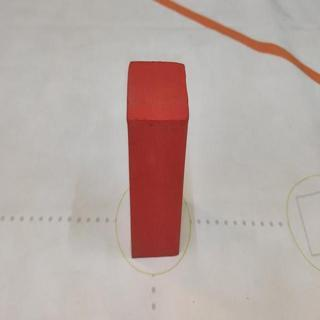redbox: (125, 59, 190, 261)
